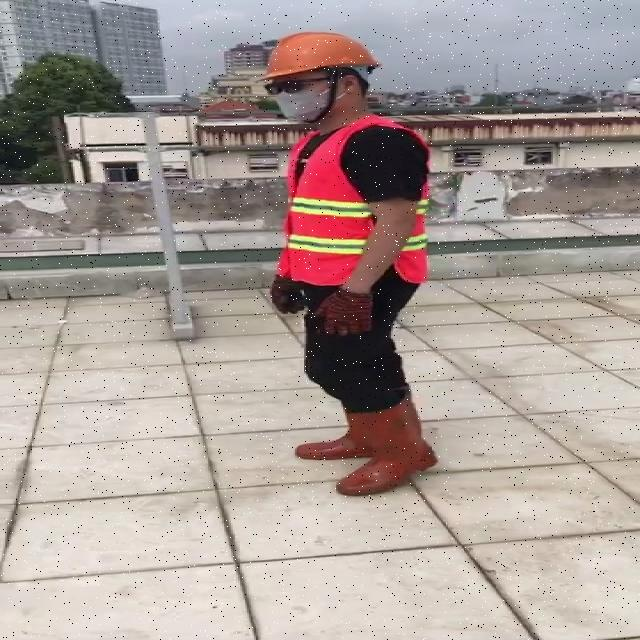Hard_hat: (261, 25, 389, 87)
Person: (259, 28, 444, 640)
Vest: (281, 121, 378, 286)
